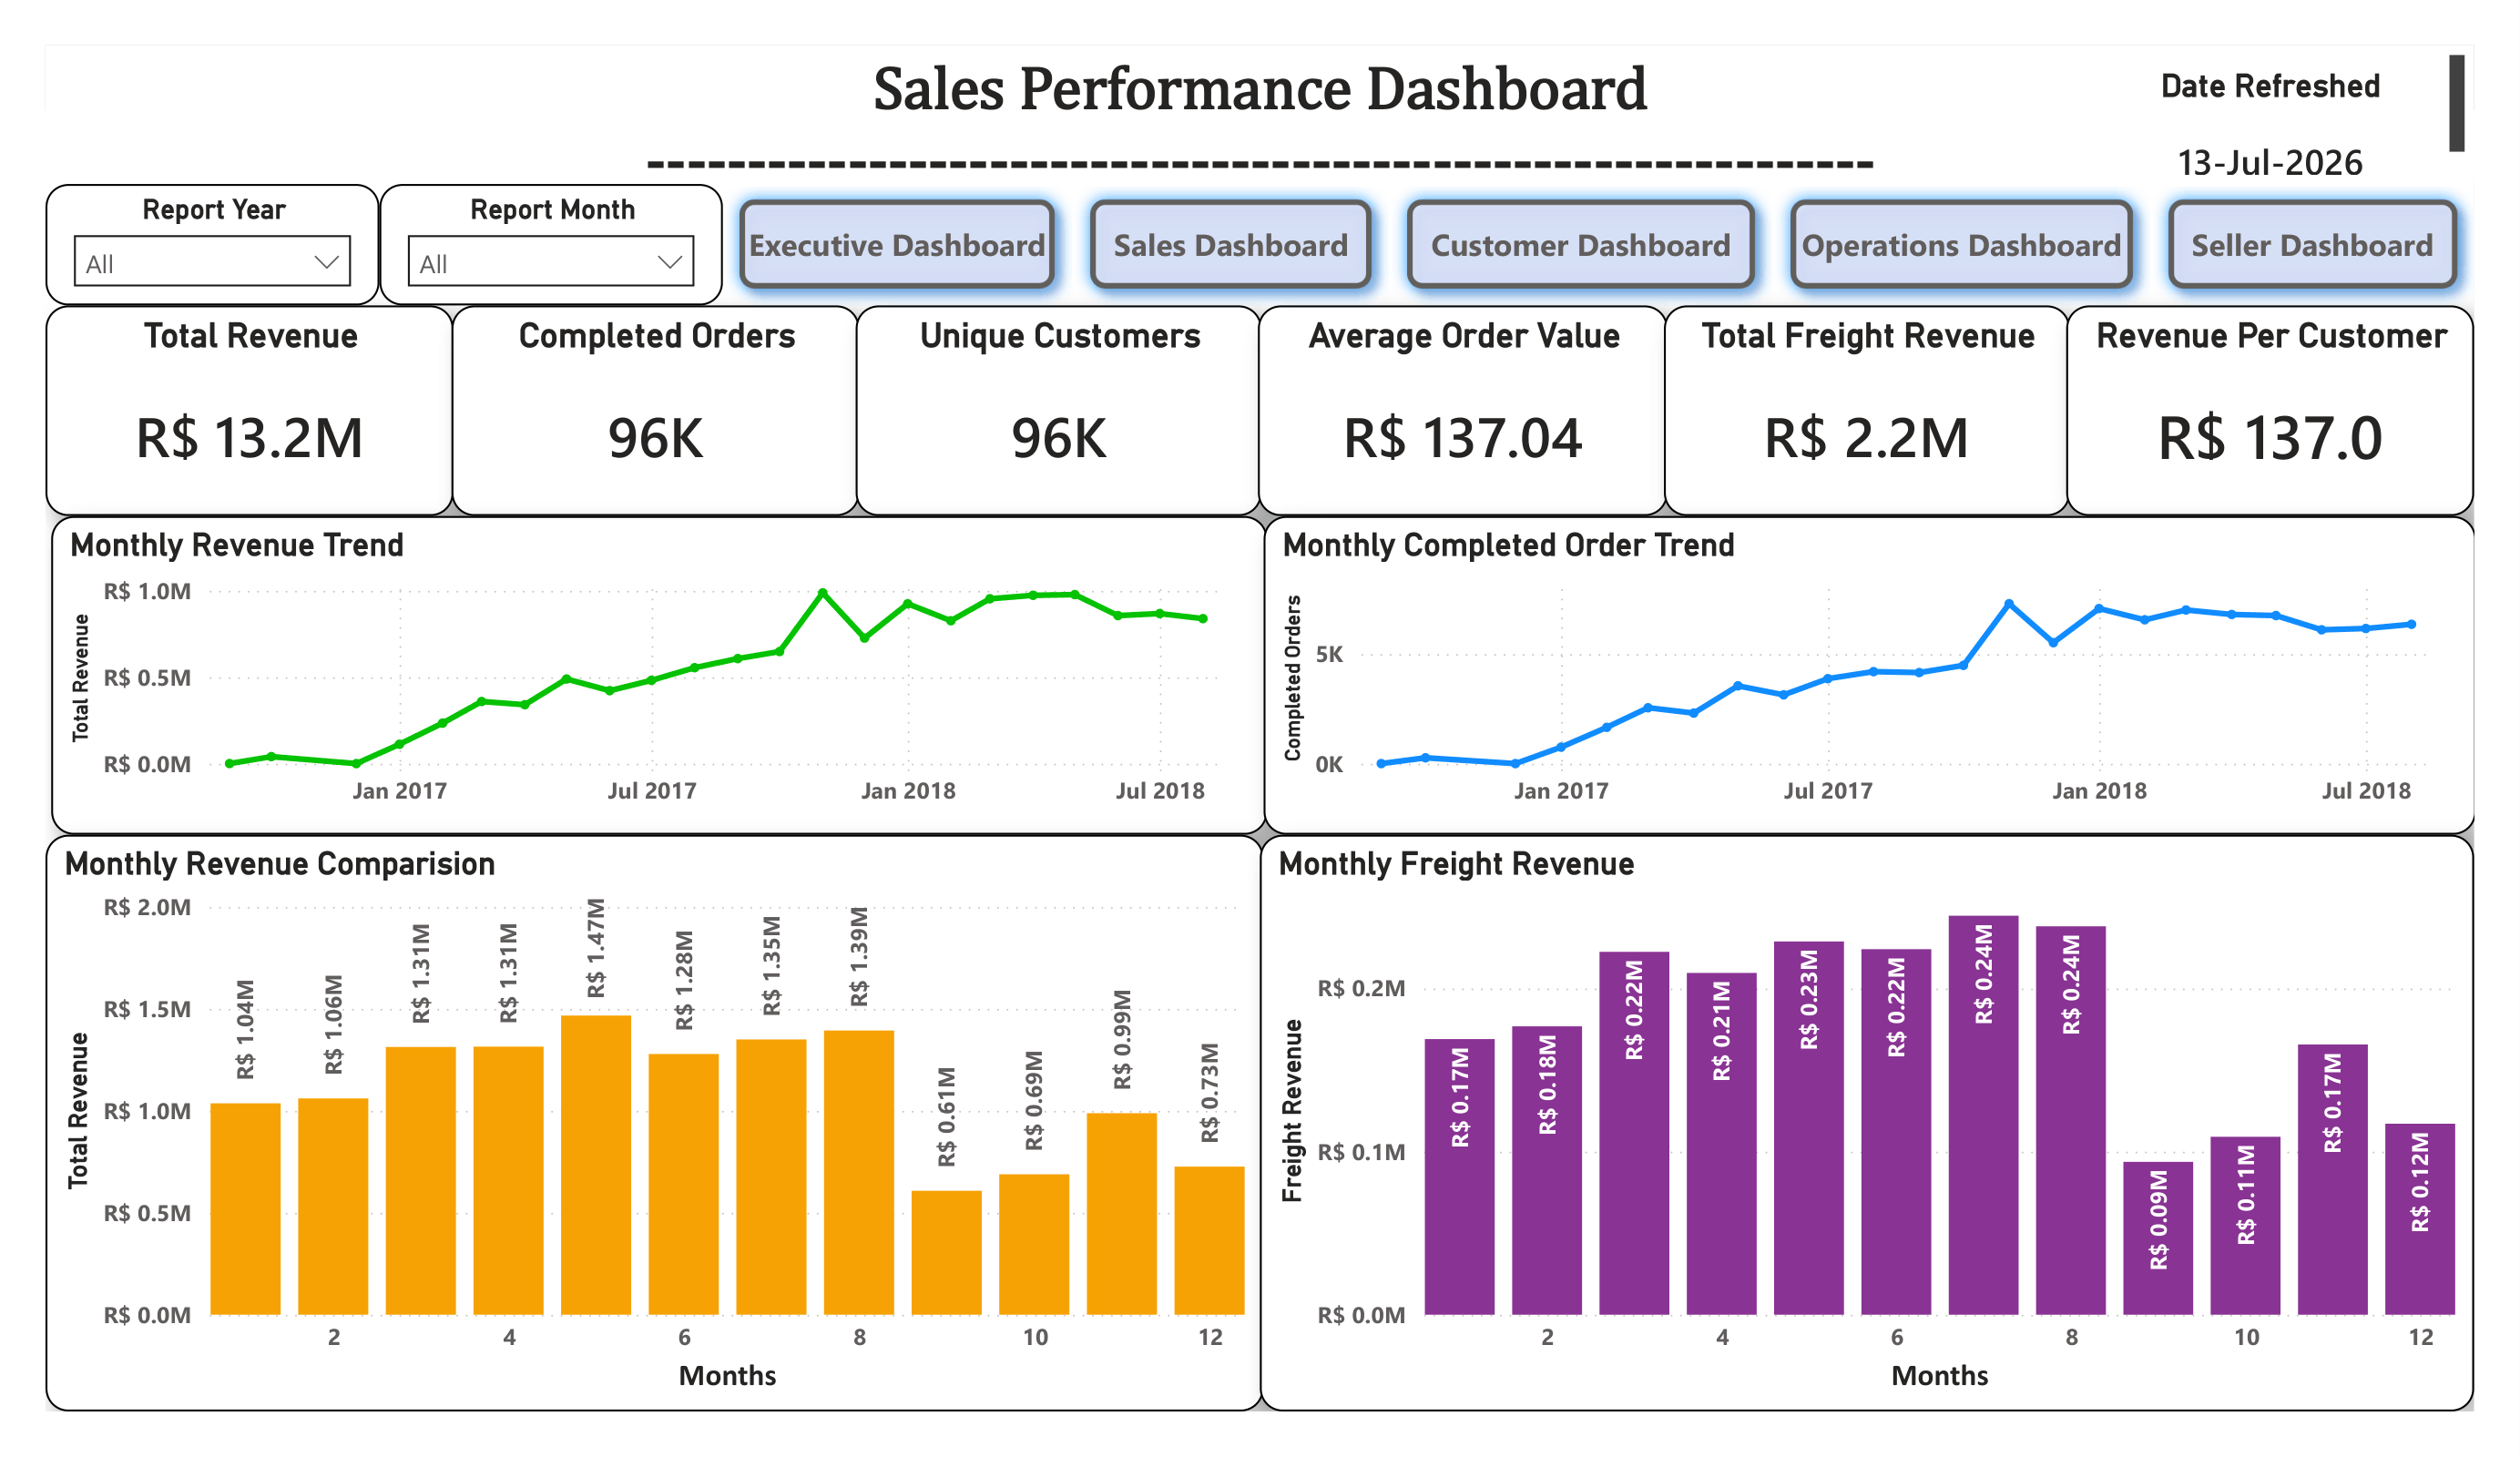

The page's visual inventory and layout, read from the dashboard file:
{"tool":"powerbi","page":{"name":"Sales Dashboard","canvas":[1280,720],"ordinal":2},"visuals":[{"type":"textbox","box":[9,0,1271.2,71.7],"z":0},{"type":"cardVisual","title":"Total Revenue","fields":{"Data":["Measures Sales.Sales Total Revenue"]},"box":[0,136.8,215.2,111.6],"z":1000},{"type":"cardVisual","title":"Completed Orders","fields":{"Data":["Measures Sales.Sales Completed Orders"]},"box":[213.6,136.8,215.2,111.6],"z":2000},{"type":"cardVisual","title":"Unique Customers","fields":{"Data":["Measures Sales.Sales Unique Customers"]},"box":[427.2,136.8,213.9,111.6],"z":3000},{"type":"cardVisual","title":"Average Order Value","fields":{"Data":["Measures Sales.Sales Average Order Value"]},"box":[639.5,136.8,215.2,111.6],"z":4000},{"type":"cardVisual","title":"Total Freight Revenue","fields":{"Data":["Measures Sales.Sales Freight Revenue"]},"box":[853.1,136.8,213.9,111.6],"z":5000},{"type":"cardVisual","title":"Revenue Per Customer","fields":{"Data":["Measures Sales.Sales Revenue per Customer"]},"box":[1064.8,136.8,215.2,111.6],"z":6000},{"type":"cardVisual","title":"Date Refreshed","fields":{"Data":["Measures (2).Last Refresh Date"]},"box":[1065.4,10.6,215.2,82.4],"z":7000},{"type":"lineChart","title":"Monthly Revenue Trend","fields":{"Category":["Sales.report_date.Variation.Date Hierarchy.Year","Sales.report_date.Variation.Date Hierarchy.Month"],"Y":["Measures Sales.Sales Total Revenue"]},"box":[2.7,248.4,641.6,167.4],"z":8000},{"type":"lineChart","title":"Monthly Completed Order Trend","fields":{"Category":["Sales.report_date.Variation.Date Hierarchy.Year","Sales.report_date.Variation.Date Hierarchy.Month"],"Y":["Measures Sales.Sales Completed Orders"]},"box":[641.6,248.4,639,167.4],"z":9000},{"type":"clusteredColumnChart","title":"Monthly Revenue Comparision","fields":{"Category":["Sales.report_month"],"Y":["Measures Sales.Sales Total Revenue"]},"box":[0,415.8,641.6,304.2],"z":10000},{"type":"slicer","title":"Report Month","fields":{"Values":["Sales.report_month"]},"box":[176.3,73.2,180.7,64.2],"z":11000},{"type":"slicer","title":"Report Year","fields":{"Values":["Sales.report_year"]},"box":[0,73.2,176.3,64.2],"z":12000},{"type":"clusteredColumnChart","title":"Monthly Freight Revenue ","fields":{"Category":["Sales.report_month"],"Y":["Measures Sales.Sales Freight Revenue"]},"box":[640,415.7,640,304.2],"z":13000},{"type":"actionButton","box":[357,71.7,183.7,65.7],"z":14000},{"type":"actionButton","box":[541.8,71.7,165.8,65.7],"z":15000},{"type":"actionButton","box":[708.7,71.7,201.7,65.7],"z":16000},{"type":"actionButton","box":[911.5,71.7,197.2,65.7],"z":17000},{"type":"actionButton","box":[1109.7,71.7,170.3,65.7],"z":18000}]}

Visuals, with their boxes on the page's 1280x720 design canvas (x1, y1, x2, y2). These are canvas units, not pixel positions in the 2520x1457 screenshot, which may show the page scaled, cropped or inside an application window:
textbox: <region>9, 0, 1280, 72</region>
"Total Revenue" cardVisual: <region>0, 137, 215, 248</region>
"Completed Orders" cardVisual: <region>214, 137, 429, 248</region>
"Unique Customers" cardVisual: <region>427, 137, 641, 248</region>
"Average Order Value" cardVisual: <region>640, 137, 855, 248</region>
"Total Freight Revenue" cardVisual: <region>853, 137, 1067, 248</region>
"Revenue Per Customer" cardVisual: <region>1065, 137, 1280, 248</region>
"Date Refreshed" cardVisual: <region>1065, 11, 1281, 93</region>
"Monthly Revenue Trend" lineChart: <region>3, 248, 644, 416</region>
"Monthly Completed Order Trend" lineChart: <region>642, 248, 1281, 416</region>
"Monthly Revenue Comparision" clusteredColumnChart: <region>0, 416, 642, 720</region>
"Report Month" slicer: <region>176, 73, 357, 137</region>
"Report Year" slicer: <region>0, 73, 176, 137</region>
"Monthly Freight Revenue " clusteredColumnChart: <region>640, 416, 1280, 720</region>
actionButton: <region>357, 72, 541, 137</region>
actionButton: <region>542, 72, 708, 137</region>
actionButton: <region>709, 72, 910, 137</region>
actionButton: <region>912, 72, 1109, 137</region>
actionButton: <region>1110, 72, 1280, 137</region>
